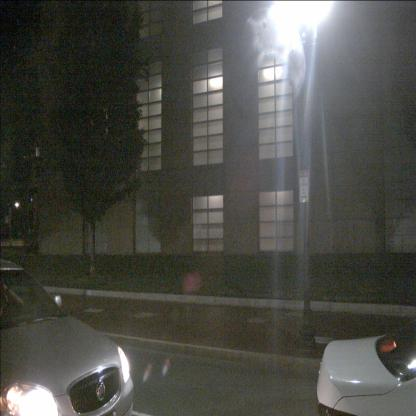vehicle-car: (0, 258, 135, 415), (316, 315, 416, 416)
